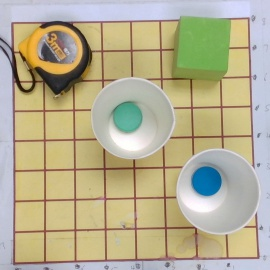cup_blue: (172, 147, 256, 234)
cup_green: (90, 77, 177, 161)
